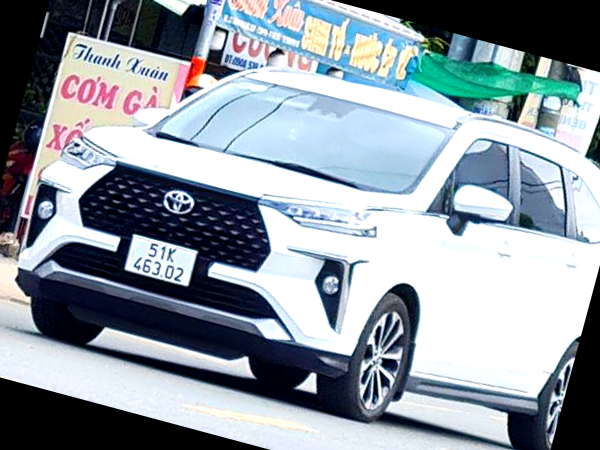lisence: (124, 234, 195, 287)
